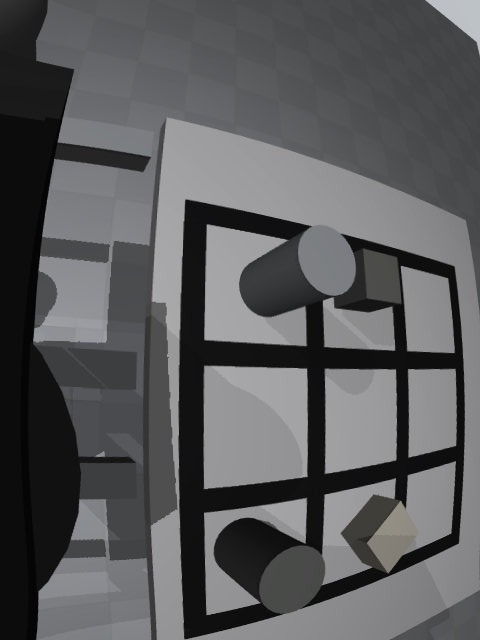can: (239, 225, 356, 318)
cube: (334, 249, 402, 313)
cylinder: (213, 517, 325, 614)
foam: (341, 495, 419, 573)
